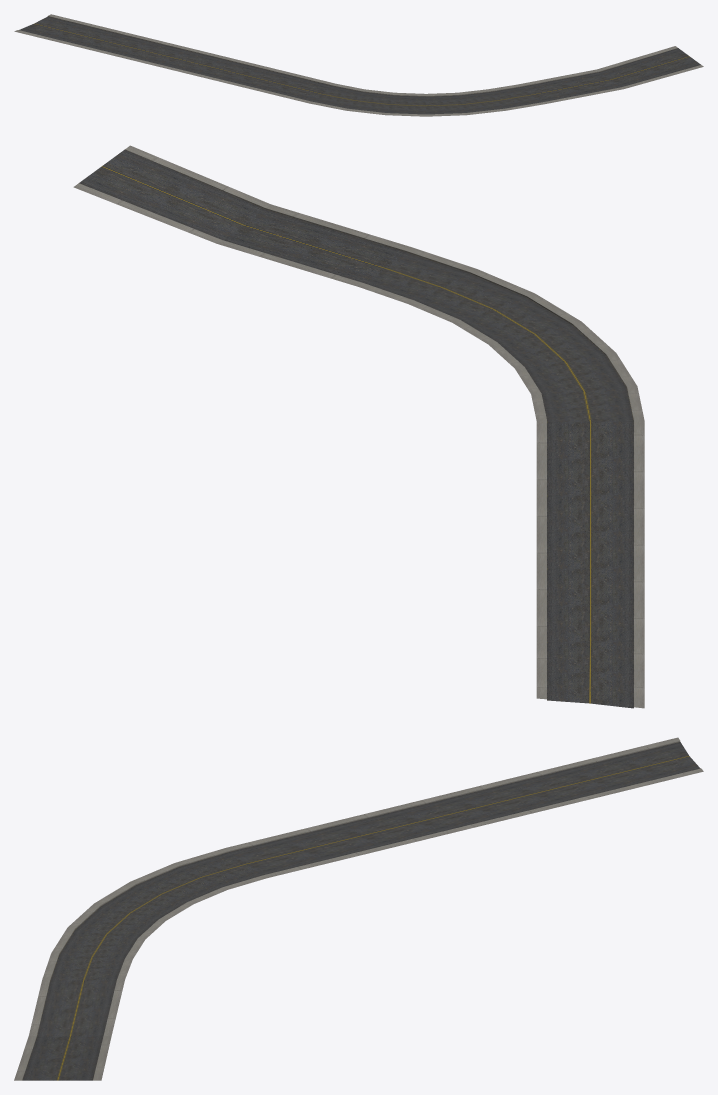
Rendered from miragebuild03.obj.
The picture shows the model from 3 angles, top to bottom: view 1: azimuth 30°, elevation 25°; view 2: azimuth 150°, elevation 25°; view 3: azimuth 270°, elevation 25°; orthographic projection. The views are drawn at different scales.
Parts seen in each view (by area): view 1: miragebuild03; view 2: miragebuild03; view 3: miragebuild03.
Part boxes in pixels (x1=…): miragebuild03: x1=14, y1=14, x2=703, y2=116; miragebuild03: x1=73, y1=145, x2=644, y2=708; miragebuild03: x1=14, y1=737, x2=703, y2=1080.
Bounding box in the file's own units: 126 × 2.07 × 104.
Materials: 2 (2 with a texture image).
